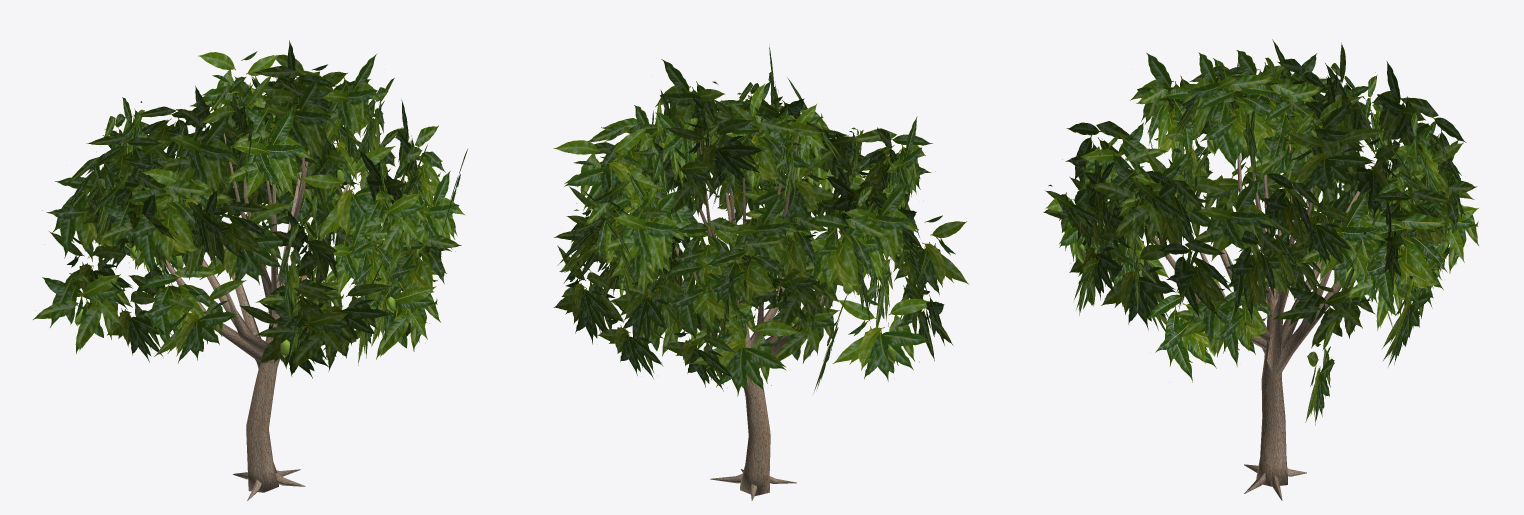
The model's file is MangoTree_Update_LOD2.fbx.
3 renders of one model, left to right at view 1: azimuth 30°, elevation 25°; view 2: azimuth 150°, elevation 25°; view 3: azimuth 270°, elevation 25°, orthographic. The views are drawn at different scales.
Parts seen in each view (by area): view 1: Leaves_LOD2, Bark_LOD2, Fruit_Green_LOD2; view 2: Leaves_LOD2, Bark_LOD2; view 3: Leaves_LOD2, Bark_LOD2.
Part boxes in pixels (x1,y1,x2,y2): Leaves_LOD2: (33,40,467,378); Bark_LOD2: (82,133,390,500); Fruit_Green_LOD2: (74,170,423,357); Leaves_LOD2: (553,44,969,396); Bark_LOD2: (649,121,890,500); Leaves_LOD2: (1043,39,1478,425); Bark_LOD2: (1080,101,1418,500).
Bounding box in the file's own units: 805 × 792 × 775.
